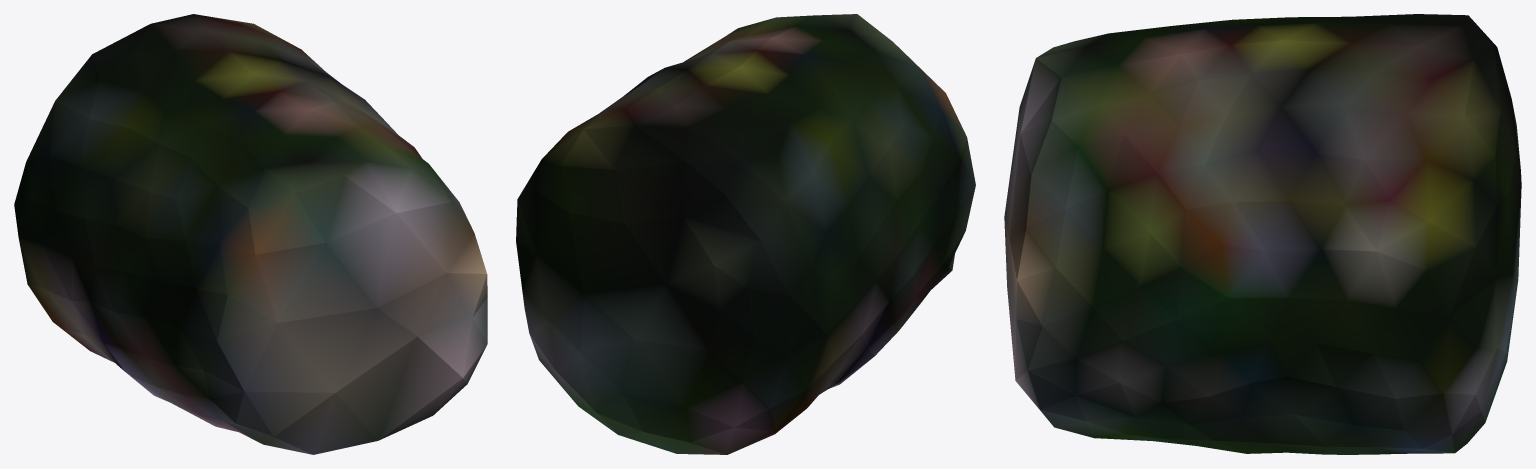
File: becks-barrel2.dae
3 renders of one model, left to right at view 1: azimuth 30°, elevation 25°; view 2: azimuth 150°, elevation 25°; view 3: azimuth 270°, elevation 25°, orthographic. The views are drawn at different scales.
Visible parts, largest first — view 1: node; view 2: node; view 3: node.
Part boxes in pixels (x1,y1,x2,y2): node: (14,14,487,454); node: (516,14,975,454); node: (1004,14,1521,454).
Size of the model in its own units: 0.1802 by 0.1807 by 0.2146.
